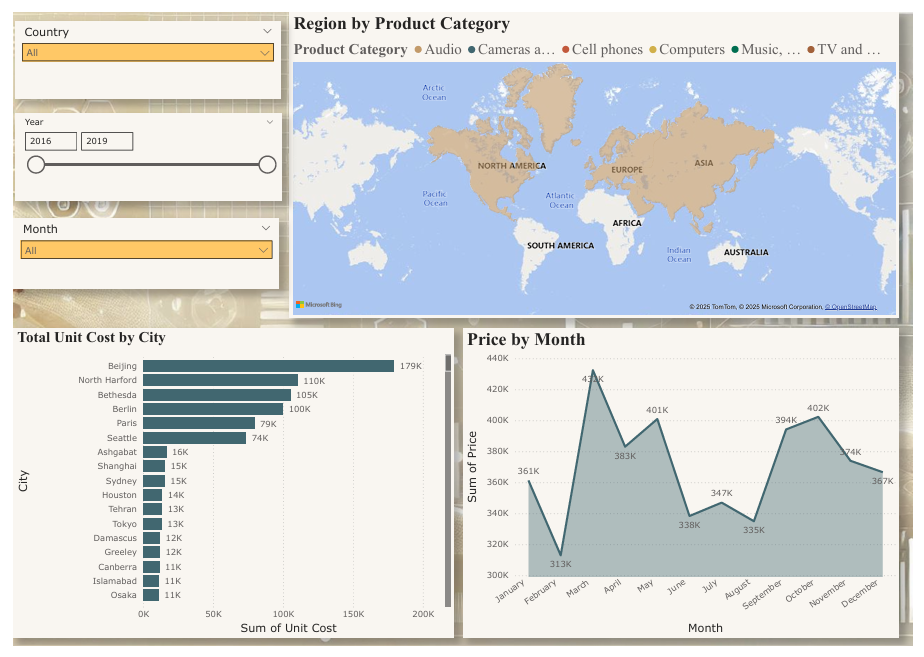

This screenshot's page, from the dashboard's own definition file:
{"tool":"powerbi","page":{"name":"Page 2","canvas":[1280,900],"ordinal":1},"visuals":[{"type":"filledMap","title":"Region by Product Category","fields":{"Category":["Data1.Region","Data1.Country"],"Series":["Data1.Product Category"]},"box":[393.3,0,866.7,435],"z":0},{"type":"clusteredBarChart","title":"Total Unit Cost by City","fields":{"Category":["Data1.City"],"Y":["Sum(Data1.Unit Cost)"]},"box":[0,450,626.7,440],"z":1000},{"type":"lineChart","title":"Price by Month","fields":{"Category":["Data1.Order Date.Variation.Date Hierarchy.Month"],"Y":["Sum(Data1.Price)"]},"box":[640,450,620,440],"z":4000},{"type":"slicer","fields":{"Values":["Data1.Country"]},"box":[1.7,11.7,378.3,111.7],"z":4001},{"type":"slicer","fields":{"Values":["Data1.Order Date.Variation.Date Hierarchy.Month"]},"box":[0,293.3,378.3,100],"z":4002},{"type":"slicer","fields":{"Values":["Data1.Order Date.Variation.Date Hierarchy.Year"]},"box":[3.3,143.3,378.3,123.3],"z":4003}]}

Visuals, with their boxes in screenshot pixels (x1, y1, x2, y2), scaled from the page's 1280x900 canvas onto the 924x657 screenshot:
"Region by Product Category" filledMap: 284,0,910,318
"Total Unit Cost by City" clusteredBarChart: 0,328,452,650
"Price by Month" lineChart: 462,328,910,650
slicer - Data1.Country: 1,9,274,90
slicer - Data1.Order Date.Variation.Date Hierarchy.Month: 0,214,273,287
slicer - Data1.Order Date.Variation.Date Hierarchy.Year: 2,105,275,195
